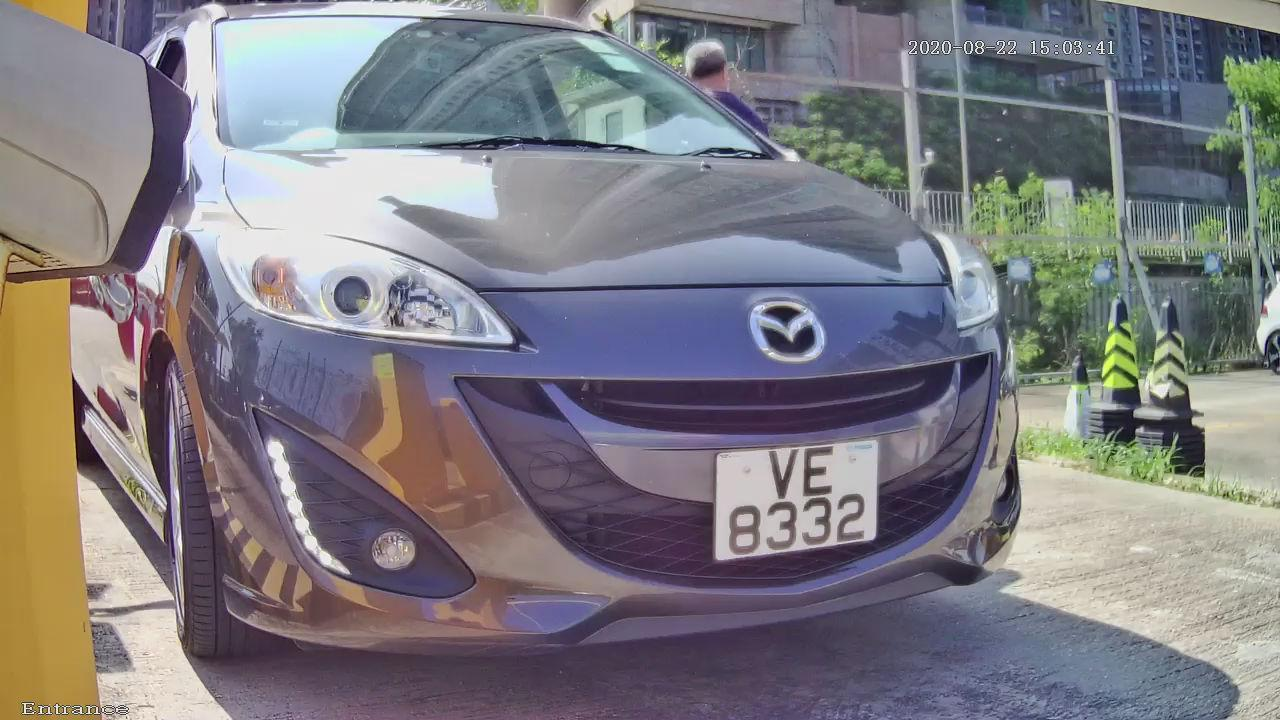License Plate: (692, 425, 886, 566)
